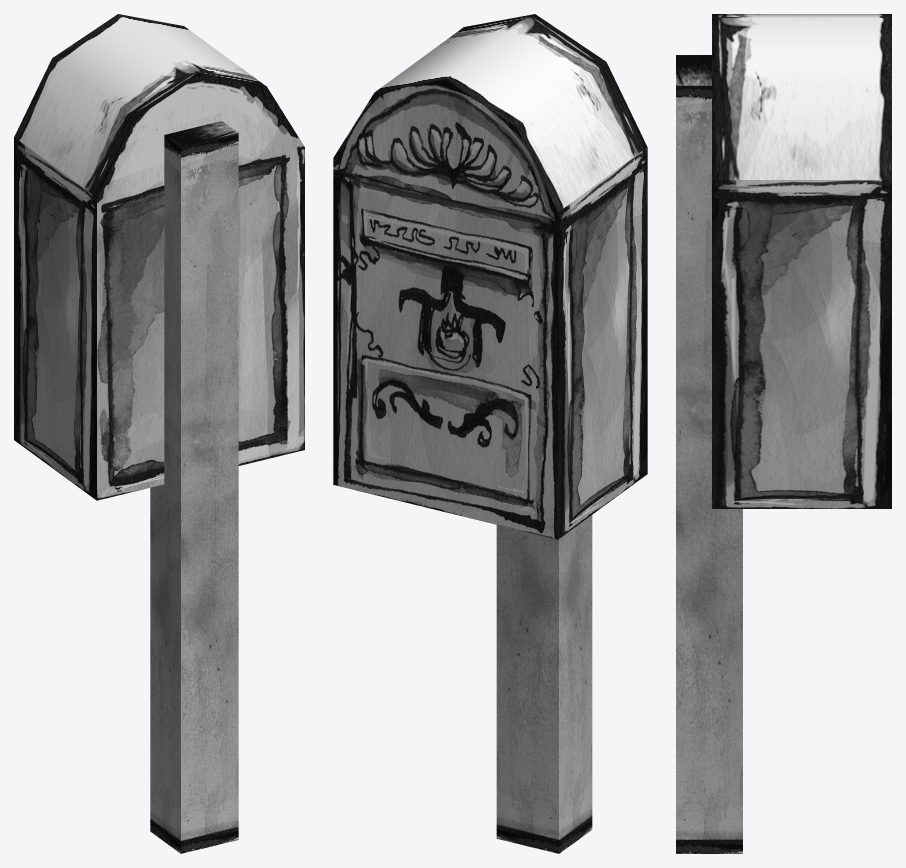
The model's file is Mailbox.fbx.
3 views of the same model, side by side, from view 1: azimuth 30°, elevation 25°; view 2: azimuth 150°, elevation 25°; view 3: azimuth 270°, elevation 25° (orthographic). The views are drawn at different scales.
Parts seen in each view (by area): view 1: Mailbox; view 2: Mailbox; view 3: Mailbox.
Part boxes in pixels (box(x1,y1,x2,y2)): Mailbox: box(14, 14, 304, 853); Mailbox: box(333, 14, 647, 853); Mailbox: box(676, 14, 891, 853).
Bounding box in the file's own units: 0.9115 × 3.18 × 0.7538.
